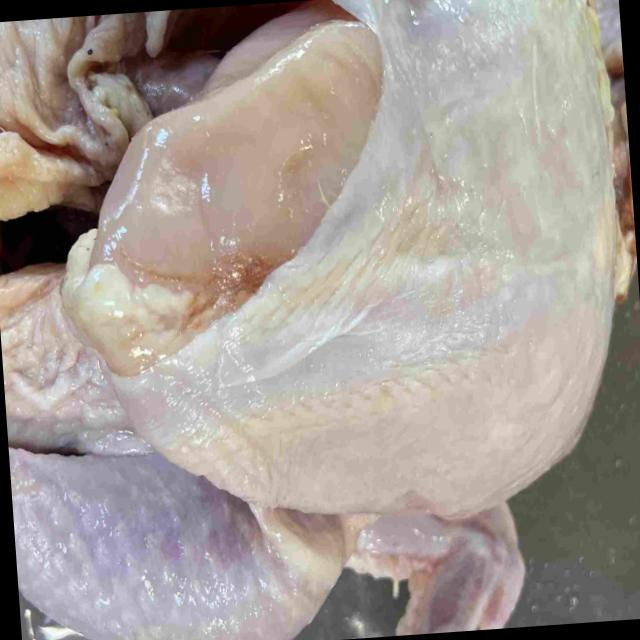breast: (74, 0, 623, 509)
leg: (8, 449, 348, 640)
neck: (587, 0, 638, 287)
wing: (337, 506, 523, 635)
